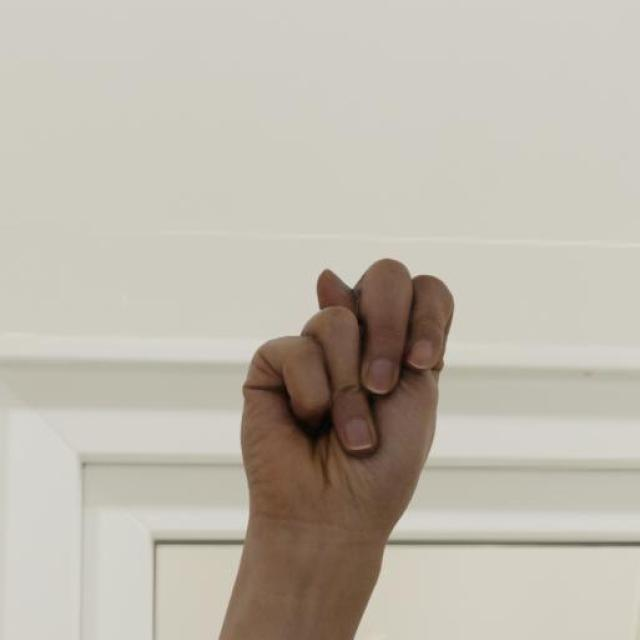N: (234, 256, 458, 545)
